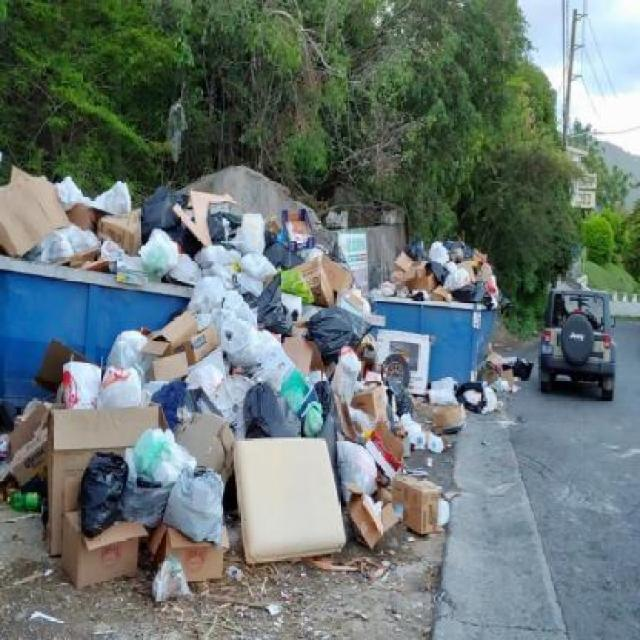garbage: (22, 317, 352, 570), (5, 166, 274, 274), (230, 237, 349, 400), (350, 337, 486, 430), (369, 239, 492, 306)
